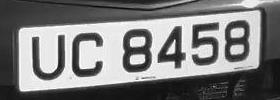4: (156, 18, 191, 76)
5: (187, 19, 224, 69)
8: (118, 21, 157, 80), (220, 16, 256, 69)
C: (66, 26, 107, 83)
U: (26, 28, 72, 86)
